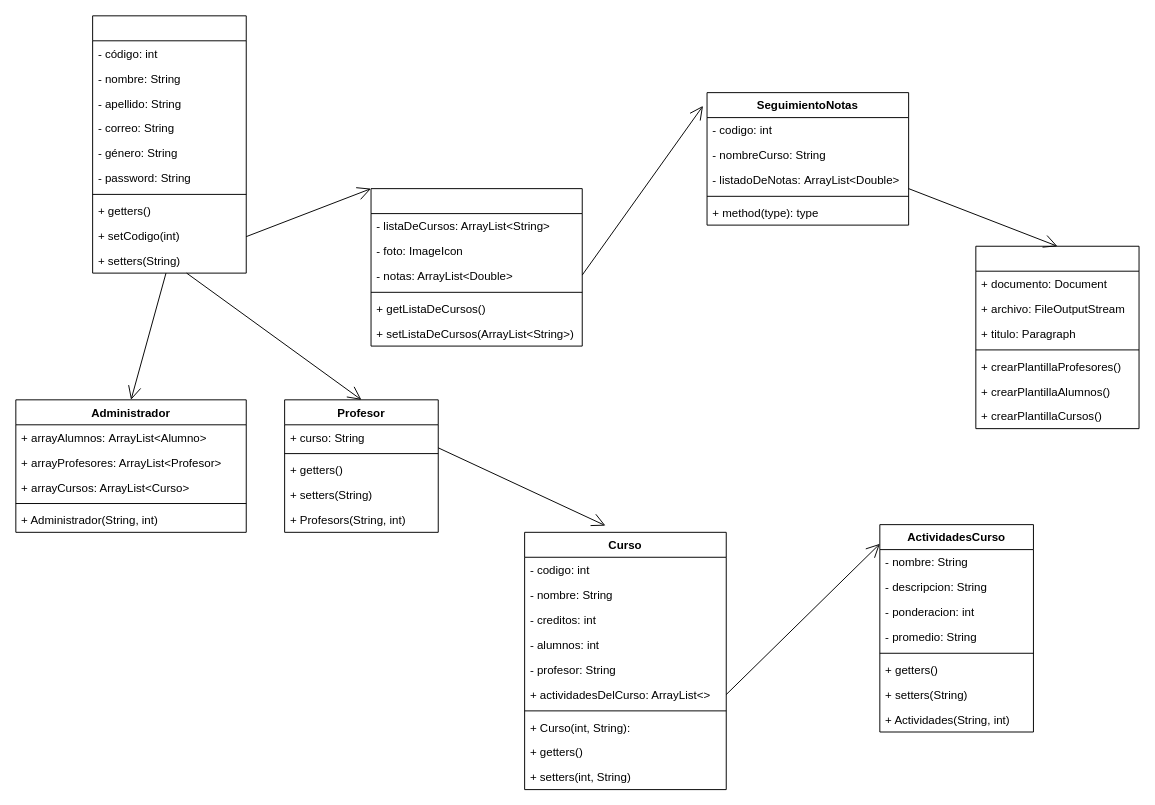
The diagram is 1155 pixels wide and 805 high, and some of its shapes have lost their labels. The box of each missing label's shape, as (x1, y1, x2, y2) in pixels:
Alumno: (370, 188, 582, 346)
Persona: (92, 15, 246, 273)
PlantillaPDF: (975, 245, 1139, 429)
